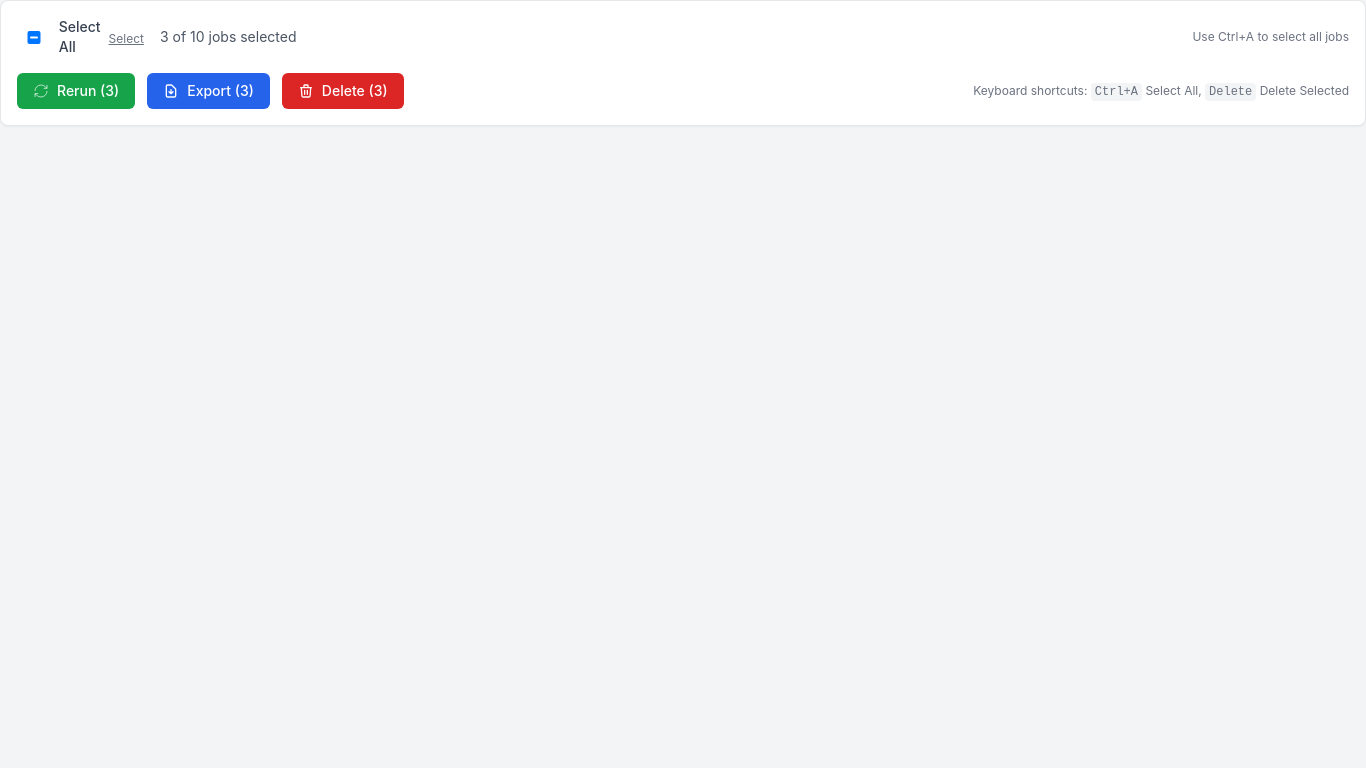
BatchOperationsToolbar › handles delete confirmation
Note: Open delete dialog
Click the button "Delete (3)" at coordinates (343, 91), box [282,73,404,109]
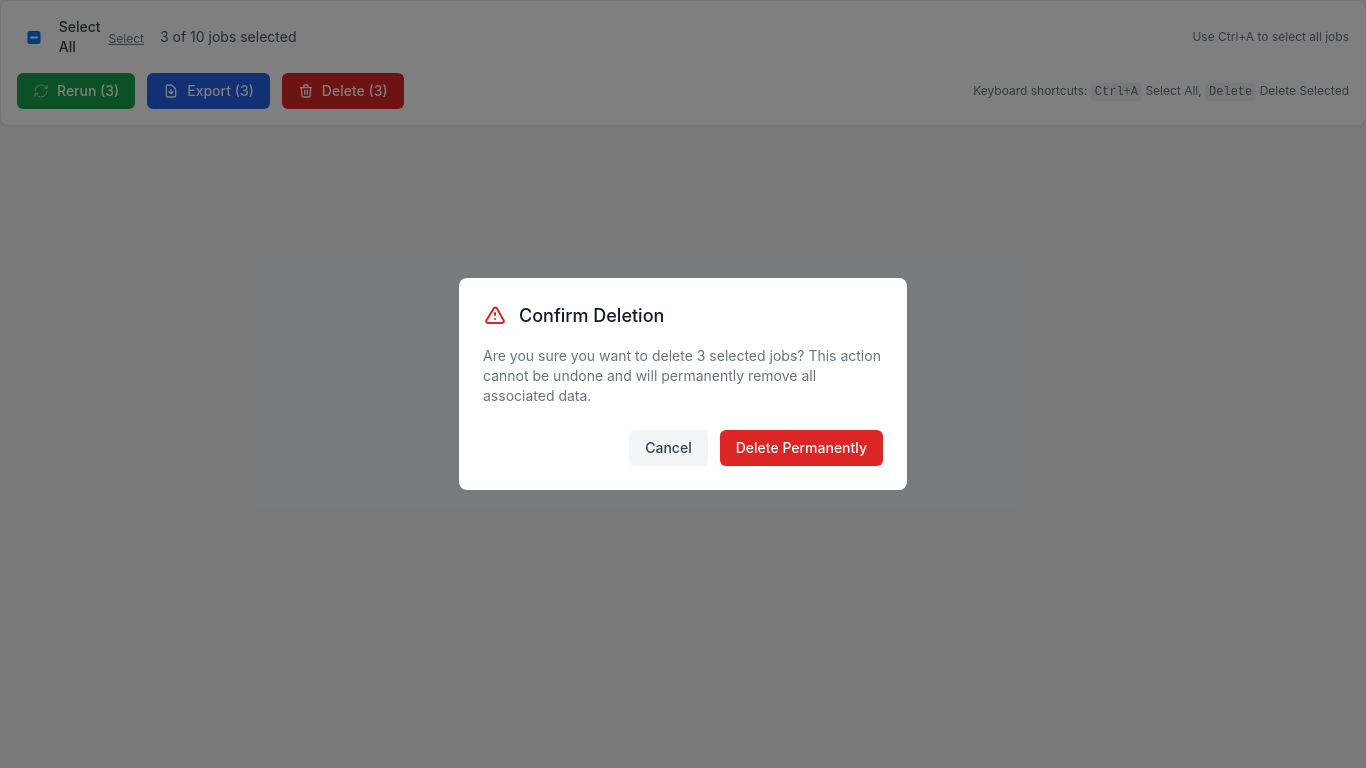
Note: Confirm deletion
Click the button "Delete Permanently" at coordinates (801, 448), box [720,430,883,466]
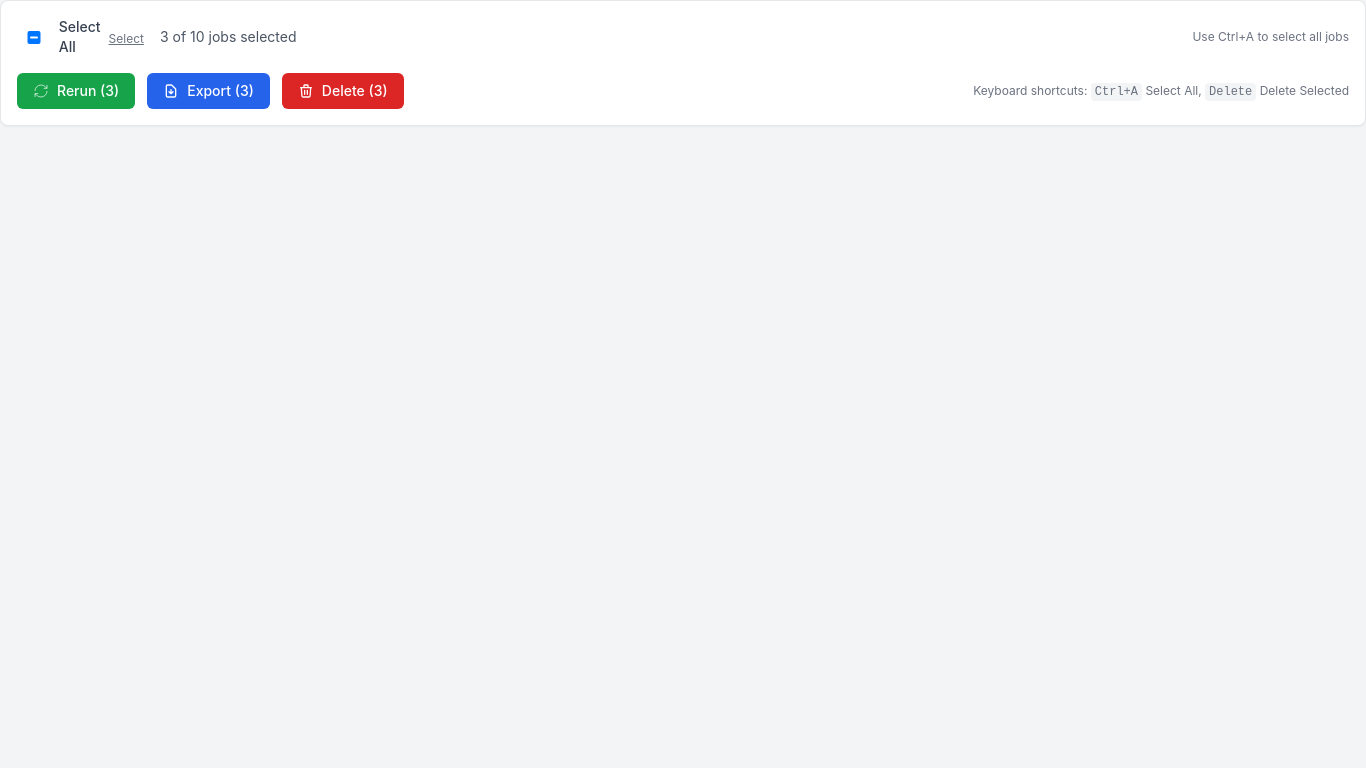
Now the heading "Confirm Deletion" is gone
